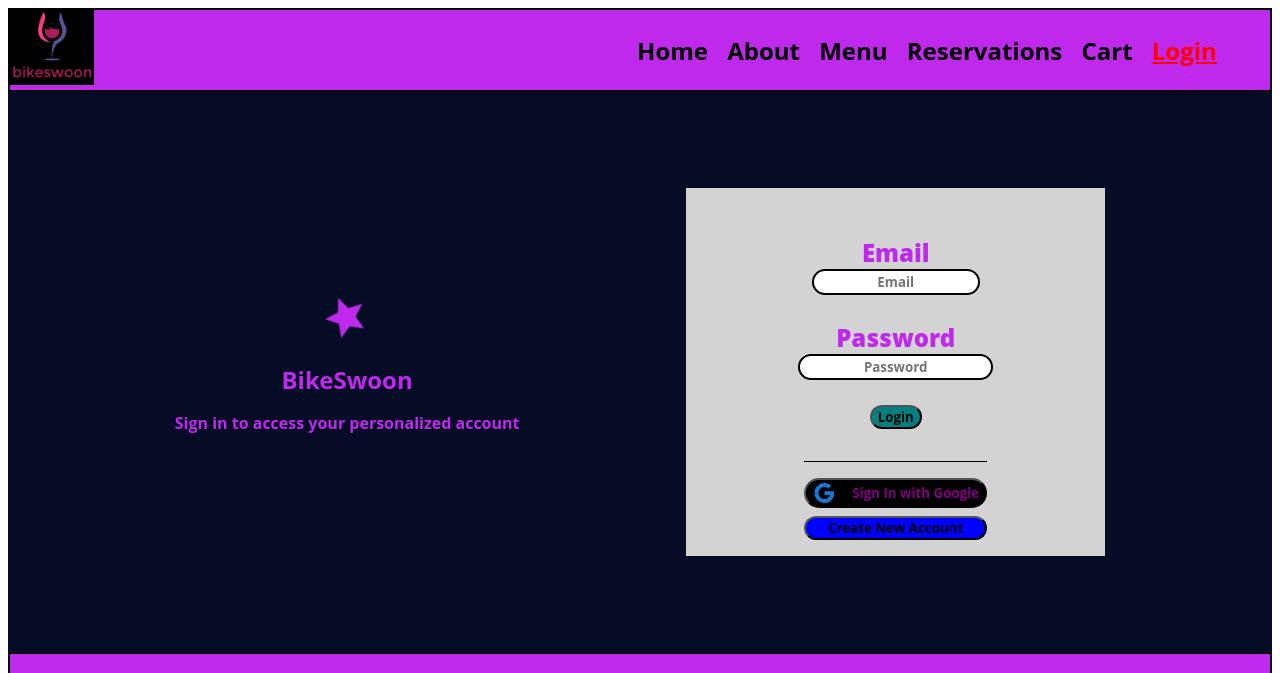
Test: Create Account Functionality › On Click while input fields are empty, create account button becomes disabled and error messages are shown
This screenshot has width=1280, height=673.
Step 1. Click the button "Create New Account" → (896, 528), box [804,516,987,540]
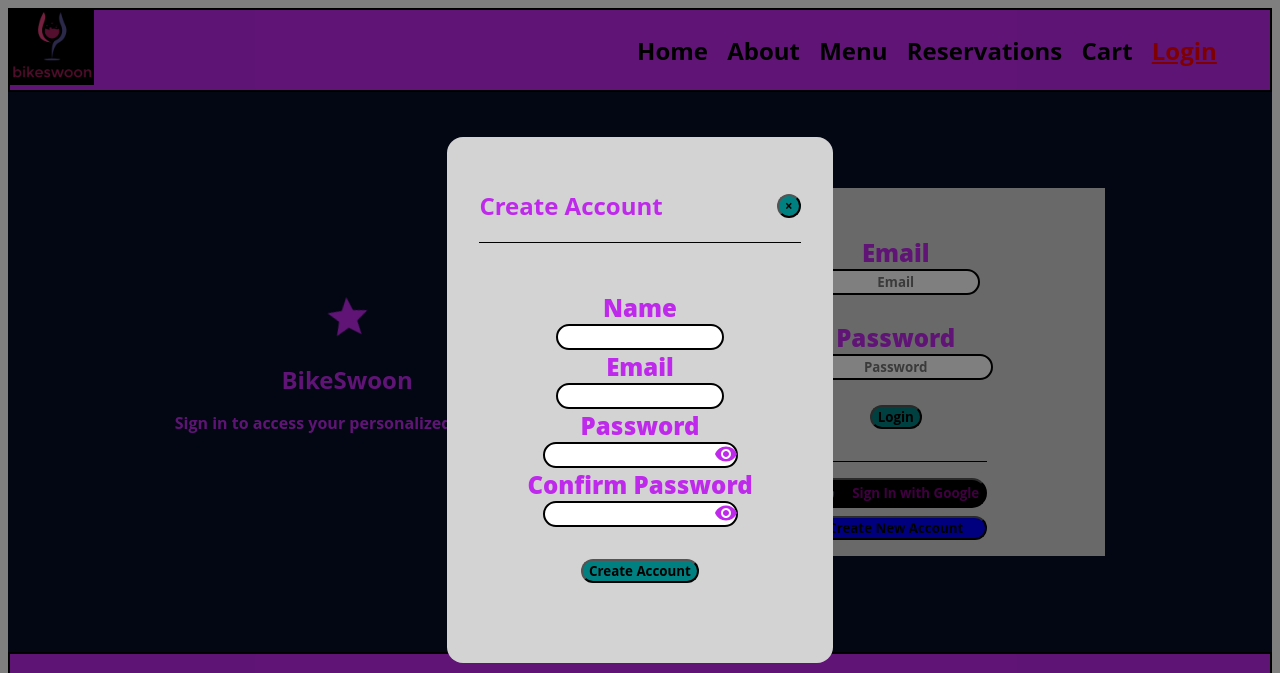
Step 2. Click the button "Create Account" → (640, 571), box [581,559,699,583]
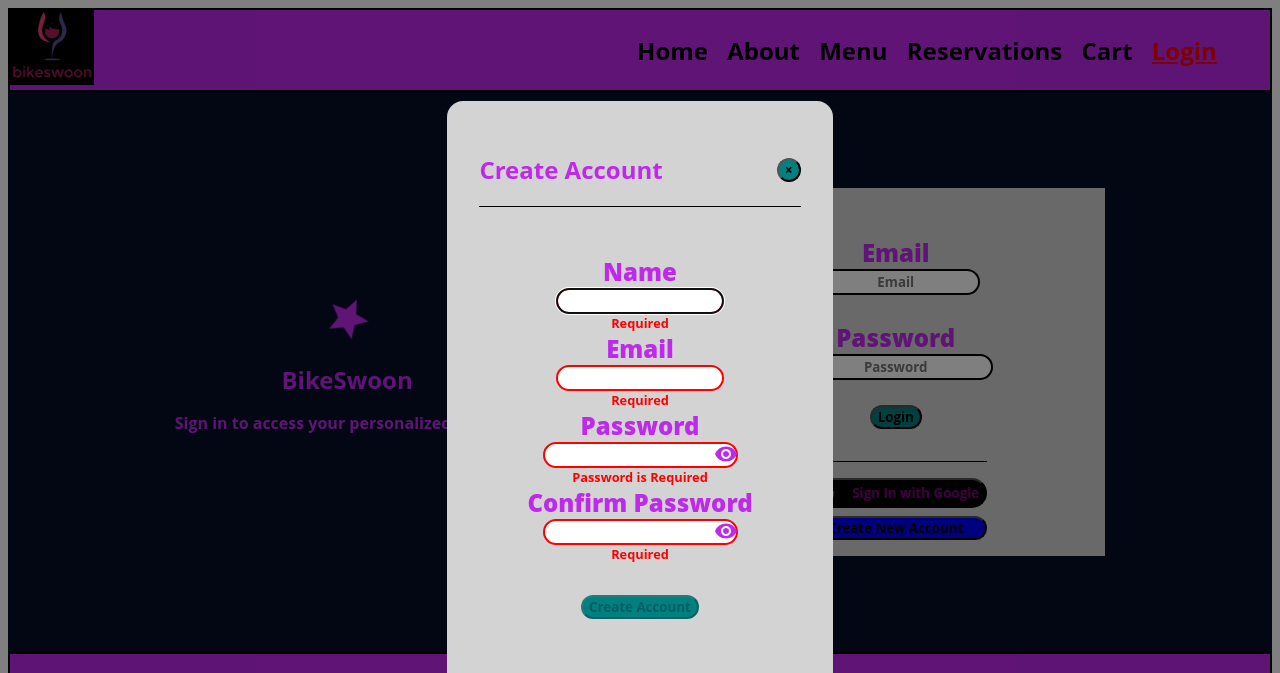
expect the button "Create Account" is disabled: met, box [581,595,699,619]
expect the 1st text "Required" is shown: met, box [611,314,669,332]
expect the 2nd text "Required" is shown: met, box [611,391,669,409]
